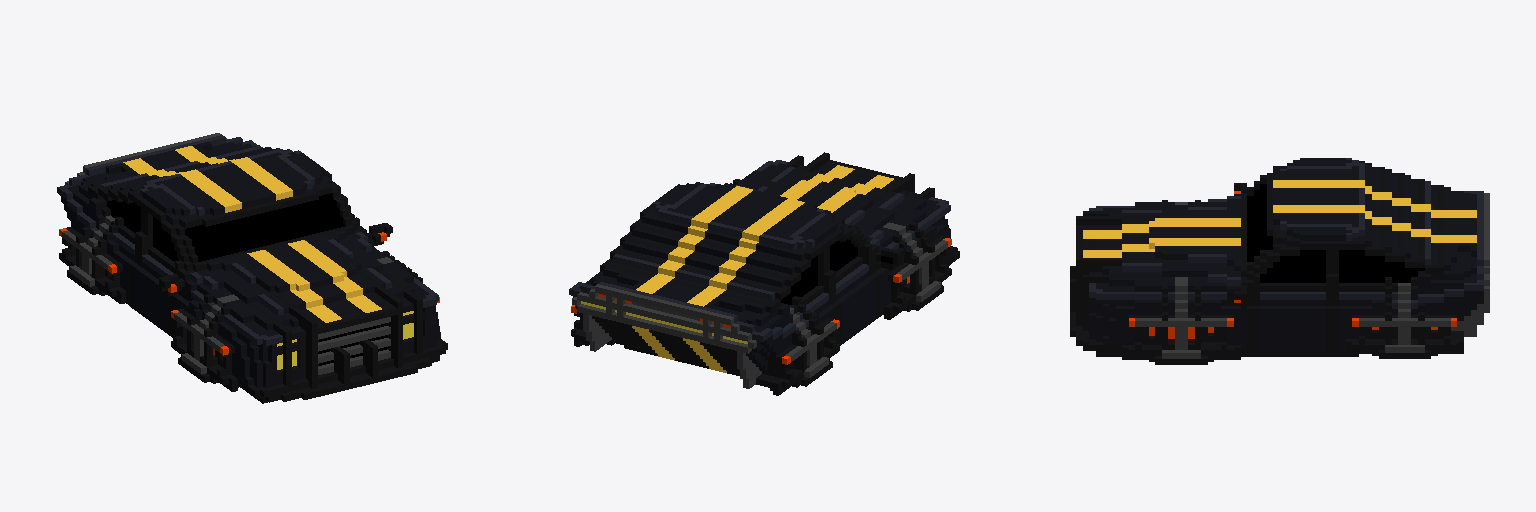
3 renders of one model, left to right at view 1: azimuth 30°, elevation 25°; view 2: azimuth 150°, elevation 25°; view 3: azimuth 270°, elevation 25°, orthographic.
Visible parts, largest first — view 1: object 1; view 2: object 1; view 3: object 1.
Part boxes in pixels (bbox=[...]): object 1: bbox=[57, 133, 447, 403]; object 1: bbox=[569, 152, 959, 395]; object 1: bbox=[1070, 158, 1489, 364].
Bounding box in the file's own units: 4 × 2 × 6.4.
1 materials, 1 textured.